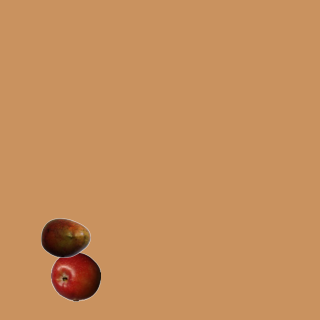Apple Braeburn: (50, 251, 100, 301)
Mango Red: (40, 212, 90, 262)
